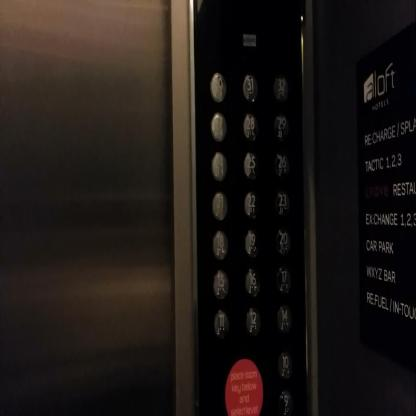10: (276, 351, 292, 379)
11: (214, 311, 228, 338)
12: (245, 307, 260, 335)
14: (275, 304, 292, 334)
15: (212, 270, 228, 298)
16: (245, 267, 259, 296)
17: (276, 266, 290, 294)
18: (212, 230, 228, 259)
19: (244, 229, 260, 256)
20: (276, 229, 290, 255)
21: (211, 192, 228, 220)
22: (243, 190, 258, 217)
23: (274, 189, 289, 215)
25: (243, 152, 258, 178)
26: (274, 152, 290, 179)
28: (242, 112, 258, 140)
29: (271, 113, 290, 142)
31: (242, 74, 258, 102)
32: (273, 73, 288, 101)
9: (277, 388, 294, 416)
blur: (210, 71, 227, 102), (210, 112, 228, 141), (211, 150, 228, 180), (242, 32, 256, 46)
text: (223, 356, 264, 415)
